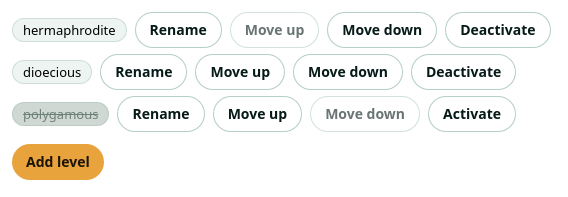
Test: RFC-62 R6 LevelsEditor › disables the row buttons while a move or toggle is pending
Click the button named "Move down hermaphrodite" at (382, 30), box 327,12 -> 437,48
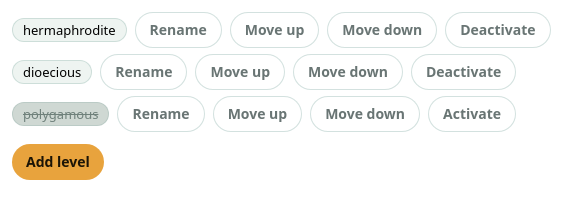
Now the button named "Move up dioecious" is disabled, box 196,54 -> 285,90
Now the button with aria-label "Rename dioecious" is disabled, box 100,54 -> 188,90
